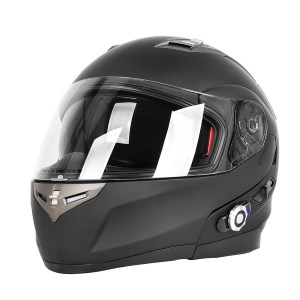with_helmet: (23, 32, 284, 278)
